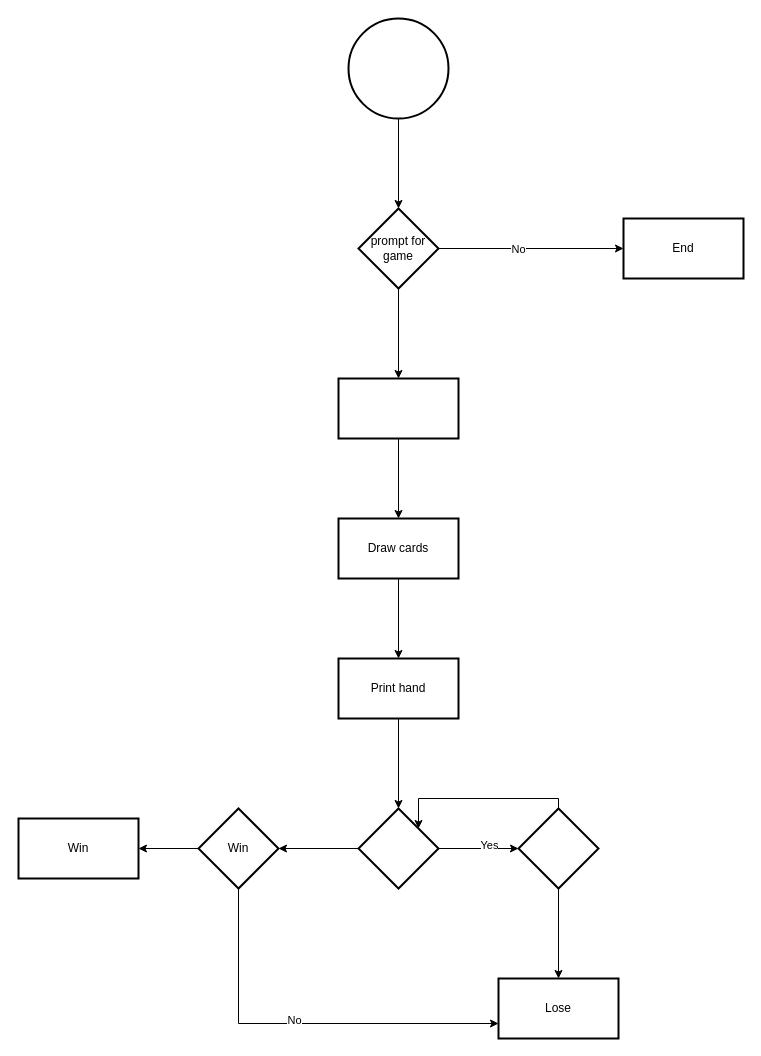
Image size: 761x1056. Some labels were removed from this diagram. Here are the shapes that lost their labels. From the top down, the centre of each, then its label:
At point (398, 408): "Draw logo".
At point (398, 848): "Prompt hit".
At point (558, 848): "Over?".
